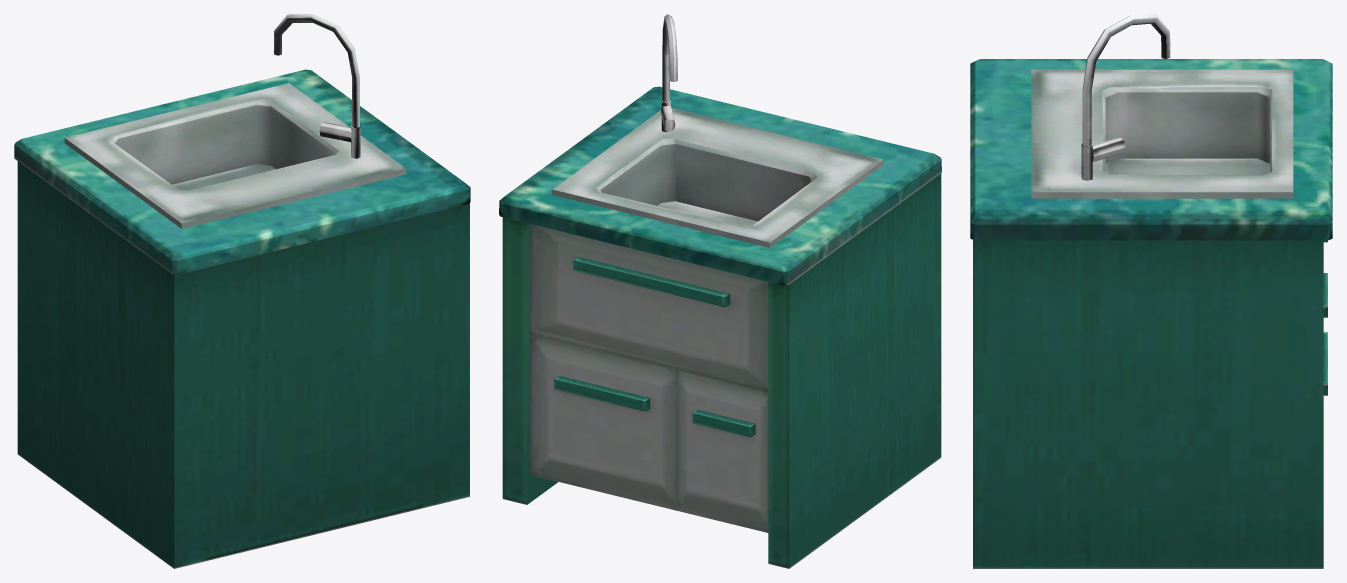
File: furni_0200521_02.FBX
3 views of the same model, side by side, from view 1: azimuth 30°, elevation 25°; view 2: azimuth 150°, elevation 25°; view 3: azimuth 270°, elevation 25° (orthographic). The views are drawn at different scales.
Visible parts, largest first — view 1: furni_0200521_02; view 2: furni_0200521_02; view 3: furni_0200521_02.
Part boxes in pixels (x1,y1,x2,y2): furni_0200521_02: (14,14,470,568); furni_0200521_02: (499,14,941,568); furni_0200521_02: (970,14,1332,568).
Size of the model in its own units: 79.8 by 116 by 74.96.
1 material, 1 textured.
